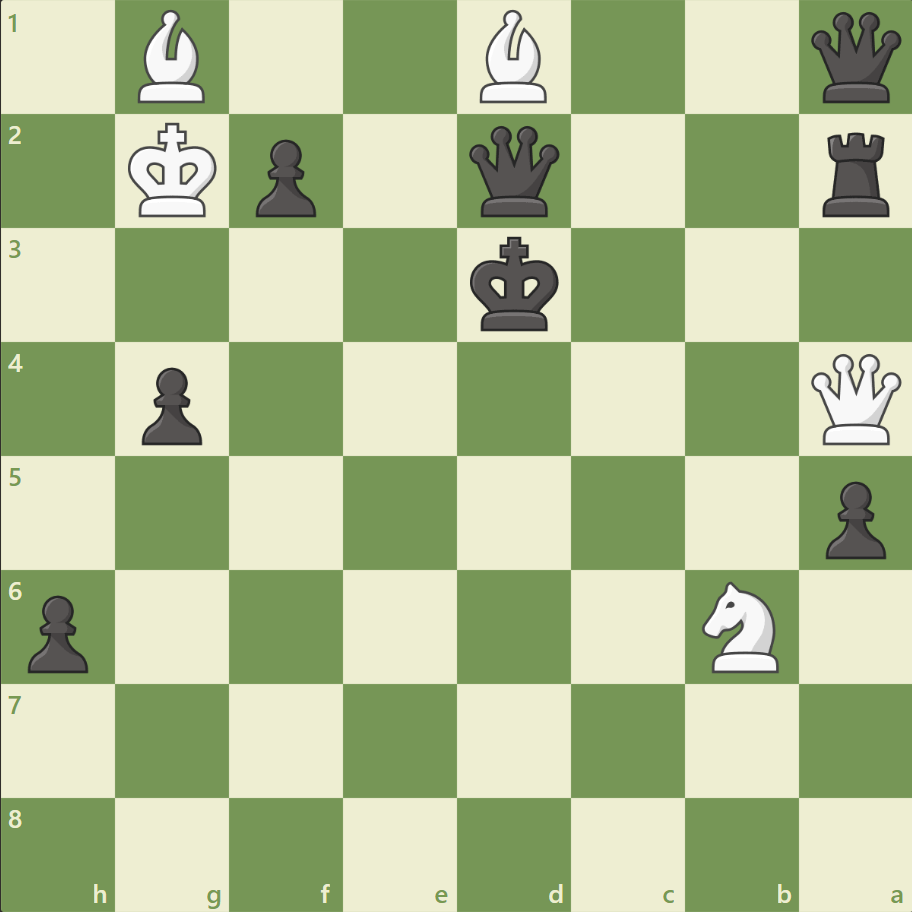B: (471, 6, 555, 109), (131, 6, 215, 109)
K: (124, 117, 224, 225)
N: (692, 575, 789, 677)
Q: (805, 349, 904, 449)
k: (465, 231, 565, 339)
p: (20, 586, 95, 677), (133, 359, 208, 450), (247, 132, 322, 223), (815, 473, 889, 564)
q: (464, 122, 563, 222), (805, 9, 904, 108)
r: (814, 125, 897, 222)
